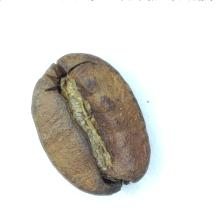NG: (52, 65, 133, 188)
